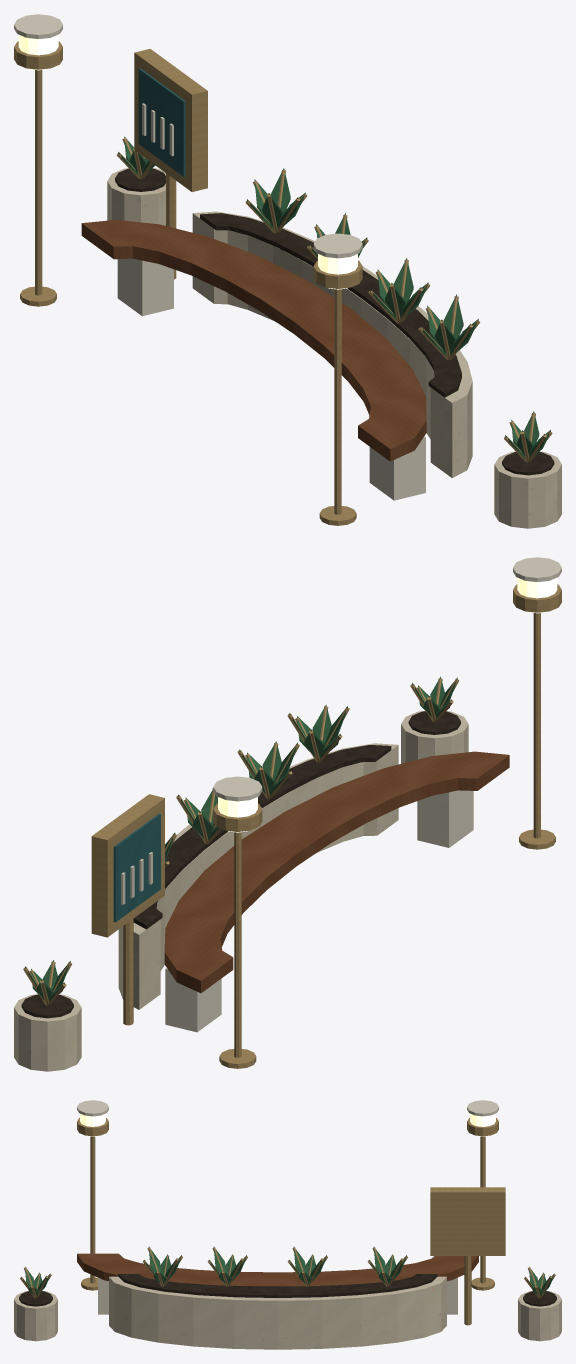
The model's file is G7_Gallery_D06_r001.glb.
The picture shows the model from 3 angles, top to bottom: view 1: azimuth 30°, elevation 25°; view 2: azimuth 150°, elevation 25°; view 3: azimuth 270°, elevation 25°; orthographic projection. The views are drawn at different scales.
Parts seen in each view (by area): view 1: G7_D06_wood_solid, G7_D06_stone_solid, G7_D06_metal_solid, G7_D06_ivory_solid, G7_D06_soil_solid, G7_D06_leaf_visual_plant, G7_D06_teal_solid, G7_D06_lens_visual_lens, G7_D06_ivory_visual_mark; view 2: G7_D06_wood_solid, G7_D06_metal_solid, G7_D06_stone_solid, G7_D06_ivory_solid, G7_D06_soil_solid, G7_D06_leaf_visual_plant, G7_D06_teal_solid, G7_D06_lens_visual_lens, G7_D06_ivory_visual_mark; view 3: G7_D06_stone_solid, G7_D06_metal_solid, G7_D06_wood_solid, G7_D06_soil_solid, G7_D06_leaf_visual_plant, G7_D06_ivory_solid, G7_D06_lens_visual_lens.
Part boxes in pixels (box(x1,y1,x2,y2)): G7_D06_wood_solid: box(81, 219, 426, 461); G7_D06_stone_solid: box(107, 168, 561, 528); G7_D06_metal_solid: box(14, 41, 552, 525); G7_D06_ivory_solid: box(14, 14, 425, 500); G7_D06_soil_solid: box(115, 168, 554, 475); G7_D06_leaf_visual_plant: box(118, 136, 550, 458); G7_D06_teal_solid: box(138, 68, 185, 176); G7_D06_lens_visual_lens: box(18, 34, 357, 289); G7_D06_ivory_visual_mark: box(142, 103, 173, 156); G7_D06_wood_solid: box(164, 751, 509, 993); G7_D06_metal_solid: box(23, 584, 561, 1068); G7_D06_stone_solid: box(14, 711, 468, 1071); G7_D06_ivory_solid: box(165, 557, 561, 1032); G7_D06_soil_solid: box(21, 711, 460, 1018); G7_D06_leaf_visual_plant: box(25, 676, 457, 1001); G7_D06_teal_solid: box(113, 813, 160, 922); G7_D06_lens_visual_lens: box(218, 577, 557, 832); G7_D06_ivory_visual_mark: box(121, 852, 152, 904); G7_D06_stone_solid: box(14, 1276, 561, 1349); G7_D06_metal_solid: box(20, 1118, 555, 1325); G7_D06_wood_solid: box(77, 1253, 478, 1286); G7_D06_soil_solid: box(19, 1274, 556, 1306); G7_D06_leaf_visual_plant: box(21, 1246, 554, 1295); G7_D06_ivory_solid: box(77, 1100, 498, 1314); G7_D06_lens_visual_lens: box(80, 1113, 495, 1136).
Size of the model in its own units: 1.68 by 1.97 by 5.48.
Materials: 8 (8 with a texture image).
